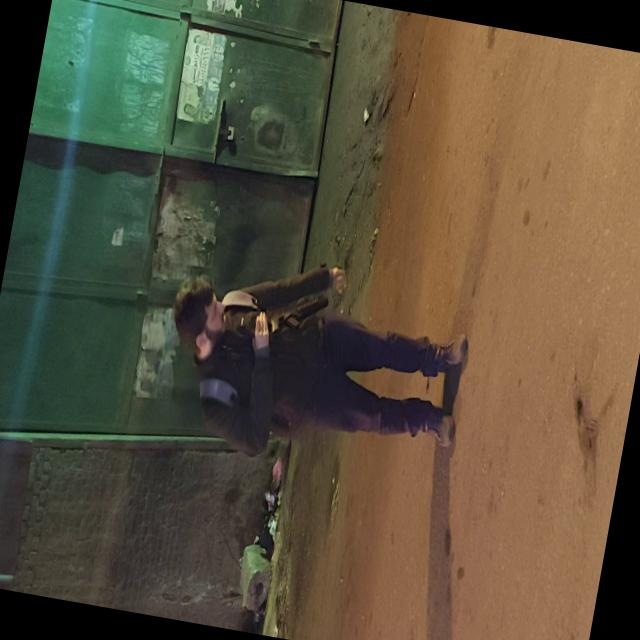long weapon: (238, 269, 332, 363)
